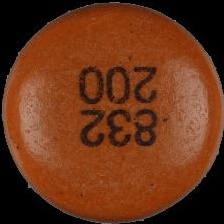51079-517: (0, 0, 224, 224)
